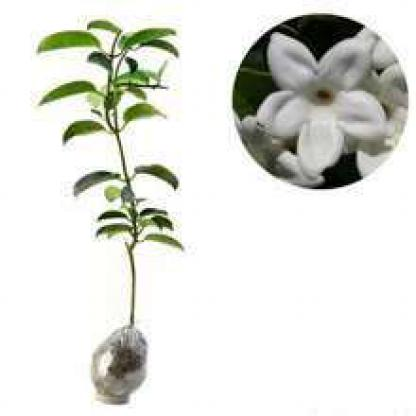Melati: (239, 24, 415, 192)
